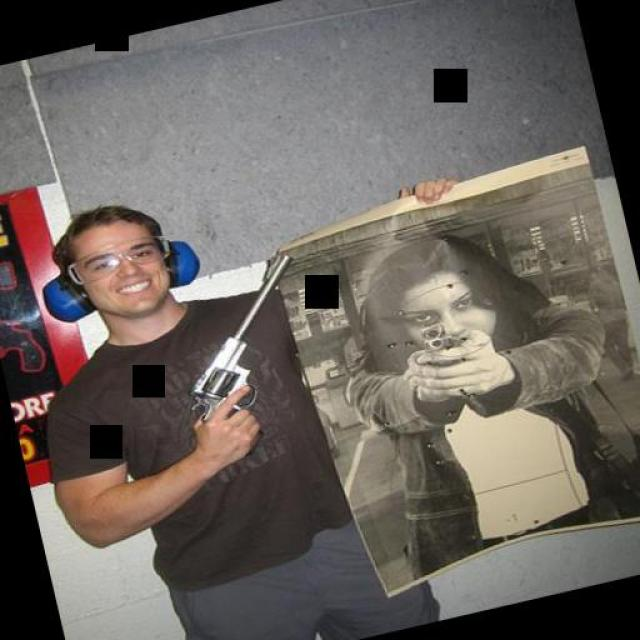gun: (158, 249, 318, 430), (408, 317, 457, 368)
